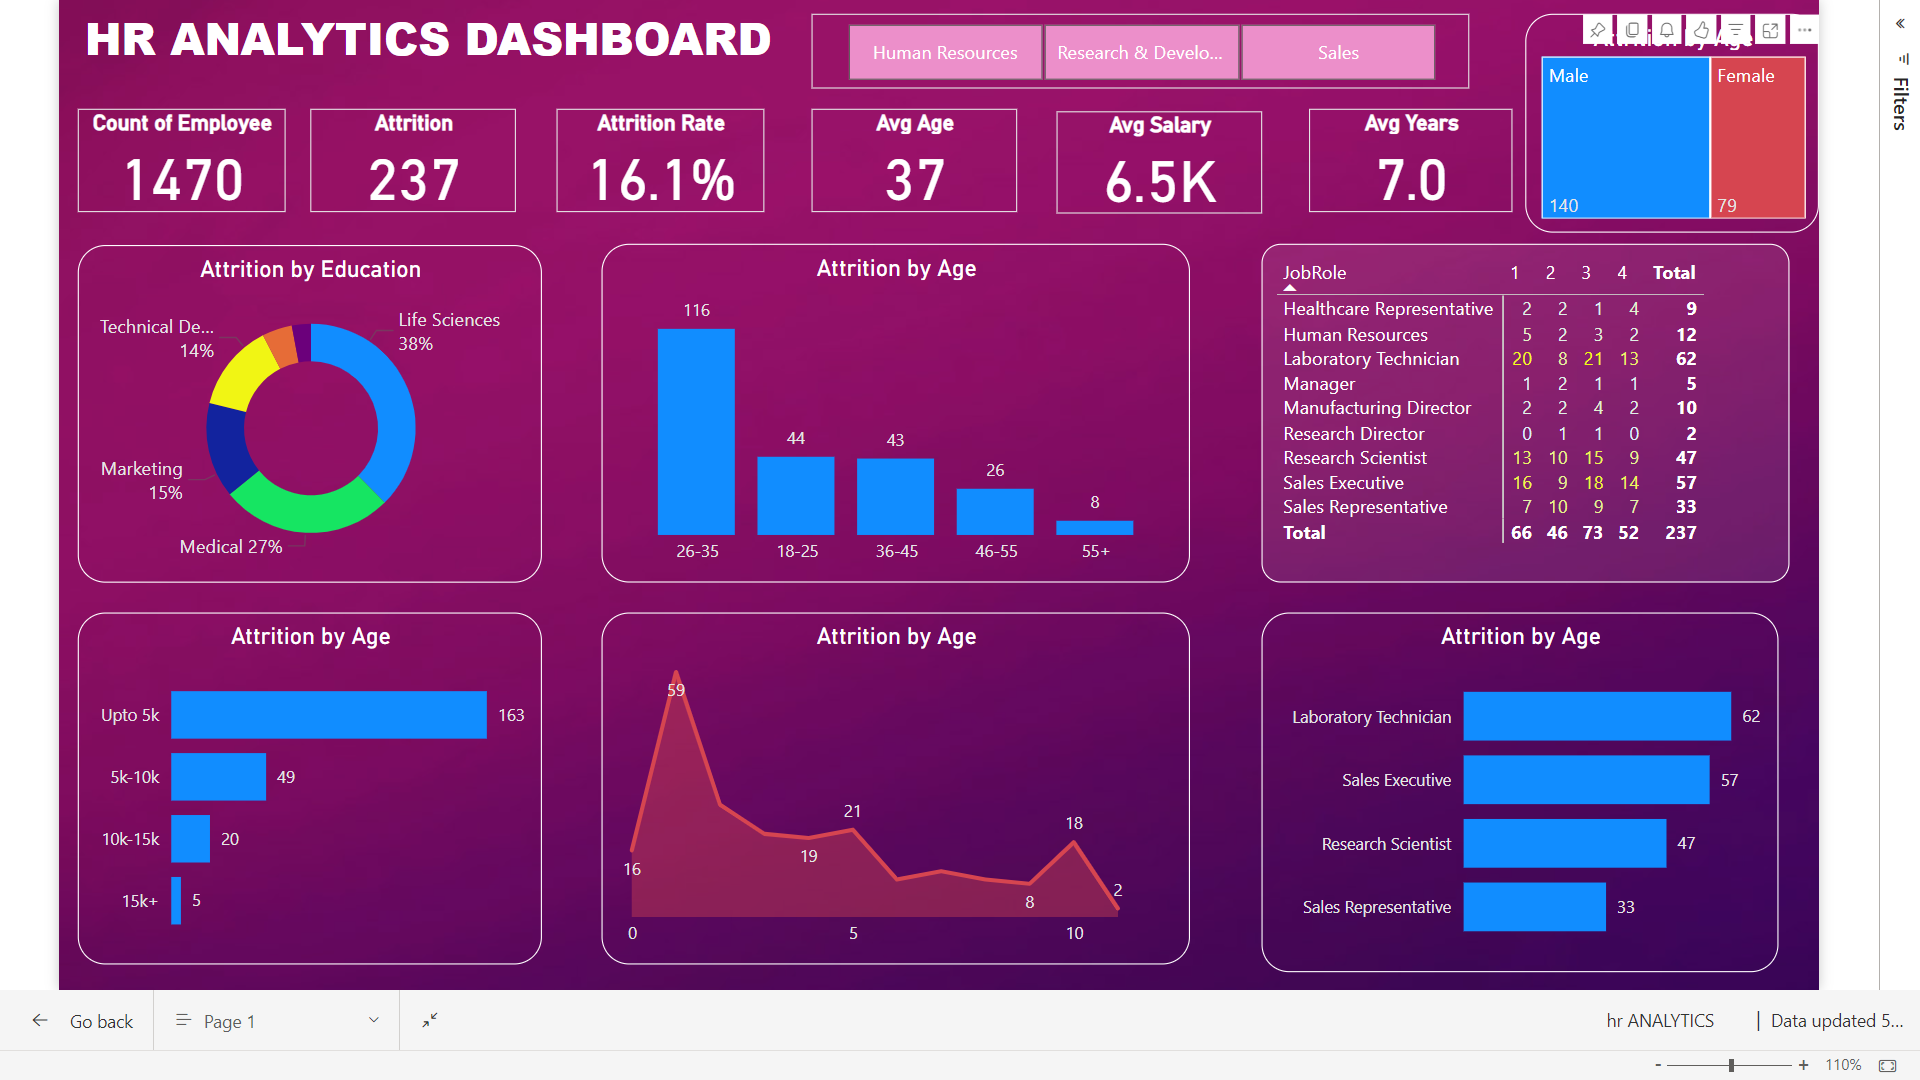

The dashboard page shown, as its layout file describes it:
{"tool":"powerbi","page":{"name":"Page 1","canvas":[1280,720],"ordinal":0},"visuals":[{"type":"card","title":"Count of Employee","fields":{"Values":["CountNonNull(HR_Analytics (2).EmpID)"]},"box":[13.7,79.5,150.8,75.4],"z":0},{"type":"card","title":"Attrition","fields":{"Values":["Sum(HR_Analytics (2).AttritionCount)"]},"box":[182.3,79.5,149.4,75.4],"z":1000},{"type":"card","title":"Attrition Rate","fields":{"Values":["HR_Analytics (2).AttritionRate"]},"box":[362,79.5,150.8,75.4],"z":2000},{"type":"card","title":"Avg Age","fields":{"Values":["Avg(HR_Analytics (2).Age)"]},"box":[547,79.5,149.4,75.4],"z":3000},{"type":"card","title":"Avg Years","fields":{"Values":["Avg(HR_Analytics (2).YearsAtCompany)"]},"box":[909,79.5,148.1,75.4],"z":4000},{"type":"card","title":"Avg Salary","fields":{"Values":["Avg(HR_Analytics (2).MonthlyIncome)"]},"box":[725.3,80.9,149.4,74],"z":5000},{"type":"donutChart","title":"Attrition by Education","fields":{"Category":["HR_Analytics (2).EducationField"],"Y":["Sum(HR_Analytics (2).AttritionCount)"]},"box":[13.7,178.2,337.3,245.4],"z":6000},{"type":"columnChart","title":"Attrition by Age","fields":{"Category":["HR_Analytics (2).AgeGroup"],"Y":["Sum(HR_Analytics (2).AttritionCount)"]},"box":[394.9,176.9,427.8,246.8],"z":7000},{"type":"pivotTable","fields":{"Rows":["HR_Analytics (2).JobRole"],"Columns":["HR_Analytics (2).JobSatisfaction"],"Values":["Sum(HR_Analytics (2).AttritionCount)"]},"box":[874.7,176.9,383.9,246.8],"z":8000},{"type":"barChart","title":"Attrition by Age","fields":{"Category":["HR_Analytics (2).SalarySlab"],"Y":["Sum(HR_Analytics (2).AttritionCount)"]},"box":[13.7,445.6,337.3,256.4],"z":9000},{"type":"barChart","title":"Attrition by Age","fields":{"Category":["HR_Analytics (2).JobRole"],"Y":["Sum(HR_Analytics (2).AttritionCount)"]},"box":[874.7,445.6,375.7,261.9],"z":10000},{"type":"treemap","title":"Attrition by Age","fields":{"Group":["HR_Analytics (2).Gender"],"Values":["Sum(HR_Analytics (2).AttritionCount)"]},"box":[1066.7,9.6,213.9,159],"z":11000},{"type":"areaChart","title":"Attrition by Age","fields":{"Category":["HR_Analytics (2).YearsAtCompany"],"Y":["Sum(HR_Analytics (2).AttritionCount)"]},"box":[394.9,445.6,427.8,256.4],"z":12000},{"type":"slicer","fields":{"Values":["HR_Analytics (2).Department"]},"box":[547.5,9.6,478.8,54.3],"z":13000},{"type":"textbox","box":[13.7,0,533.3,64.4],"z":14000}]}

Visuals, with their boxes on the page's 1280x720 design canvas (x1, y1, x2, y2). These are canvas units, not pixel positions in the 1920x1080 screenshot, which may show the page scaled, cropped or inside an application window:
"Count of Employee" card: bbox=[14, 80, 164, 155]
"Attrition" card: bbox=[182, 80, 332, 155]
"Attrition Rate" card: bbox=[362, 80, 513, 155]
"Avg Age" card: bbox=[547, 80, 696, 155]
"Avg Years" card: bbox=[909, 80, 1057, 155]
"Avg Salary" card: bbox=[725, 81, 875, 155]
"Attrition by Education" donutChart: bbox=[14, 178, 351, 424]
"Attrition by Age" columnChart: bbox=[395, 177, 823, 424]
pivotTable - HR_Analytics (2).JobRole x HR_Analytics (2).JobSatisfaction: bbox=[875, 177, 1259, 424]
"Attrition by Age" barChart: bbox=[14, 446, 351, 702]
"Attrition by Age" barChart: bbox=[875, 446, 1250, 708]
"Attrition by Age" treemap: bbox=[1067, 10, 1281, 169]
"Attrition by Age" areaChart: bbox=[395, 446, 823, 702]
slicer - HR_Analytics (2).Department: bbox=[548, 10, 1026, 64]
textbox: bbox=[14, 0, 547, 64]
